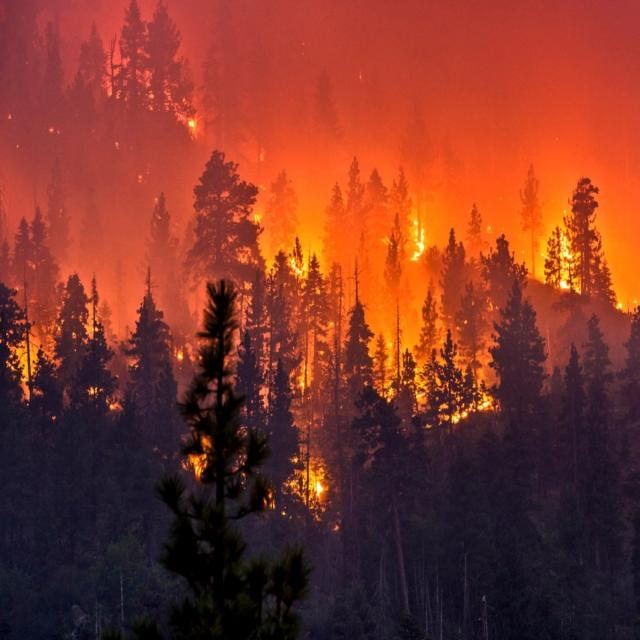Fire: (543, 222, 614, 295), (17, 336, 70, 412), (446, 376, 507, 426), (278, 220, 320, 282), (301, 447, 333, 515), (401, 214, 436, 269)
Smoke: (18, 0, 622, 407)
